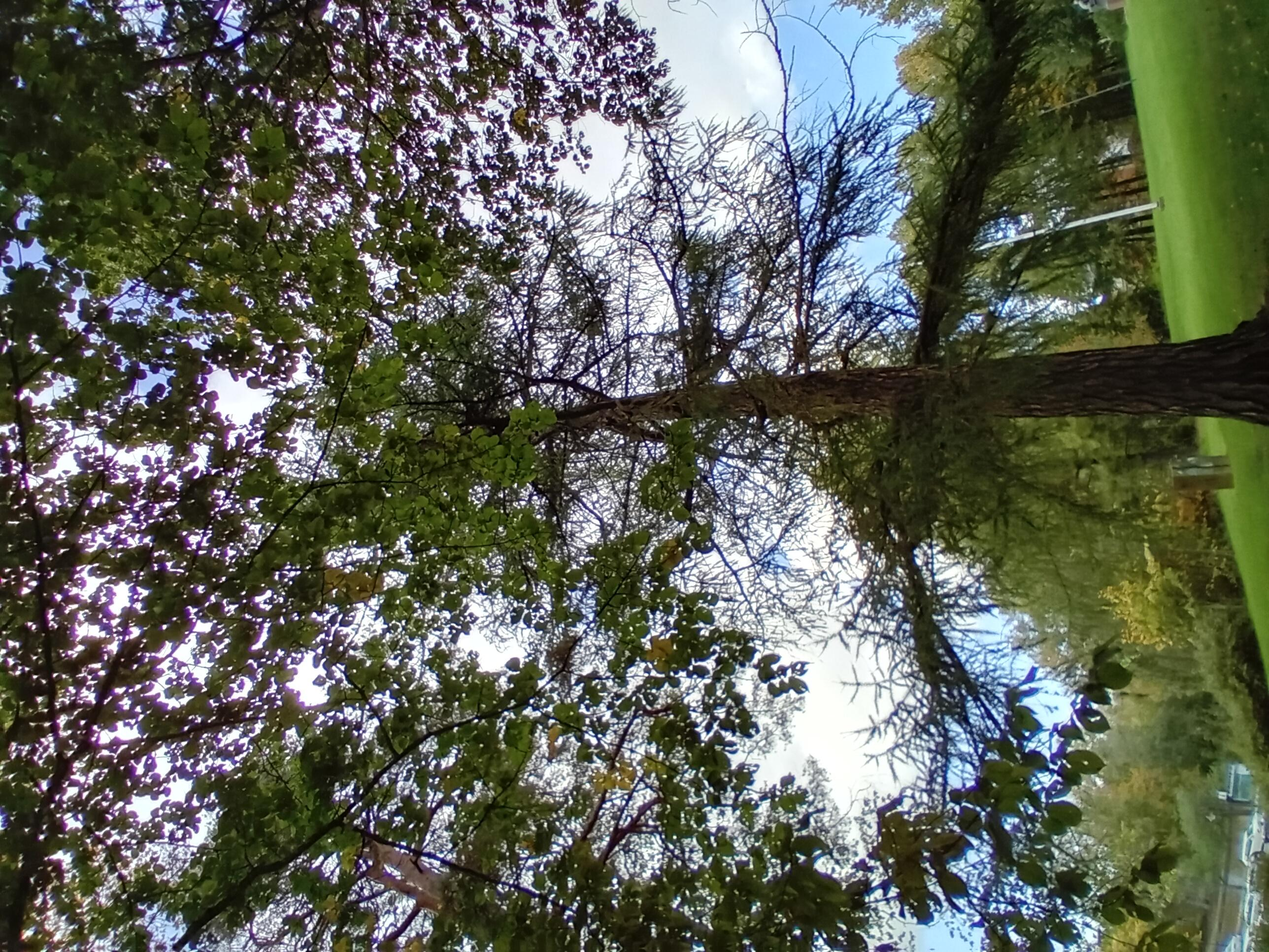Spruce: (1, 0, 1267, 949), (329, 84, 1154, 946)
